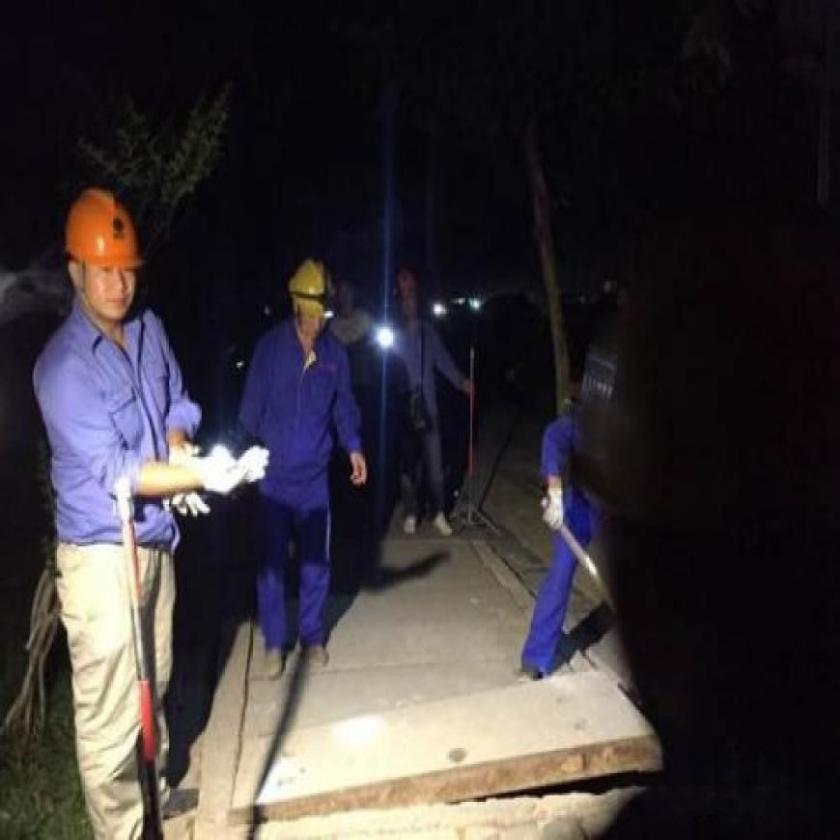Con_casco: (54, 181, 168, 321)
